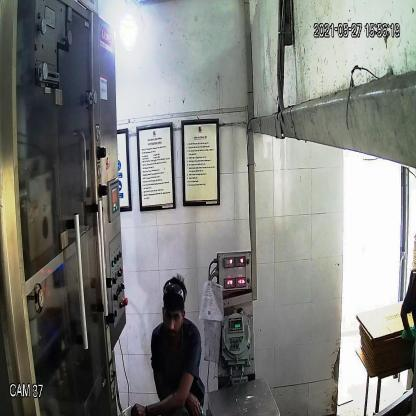no_goggles: (158, 305, 188, 329)
